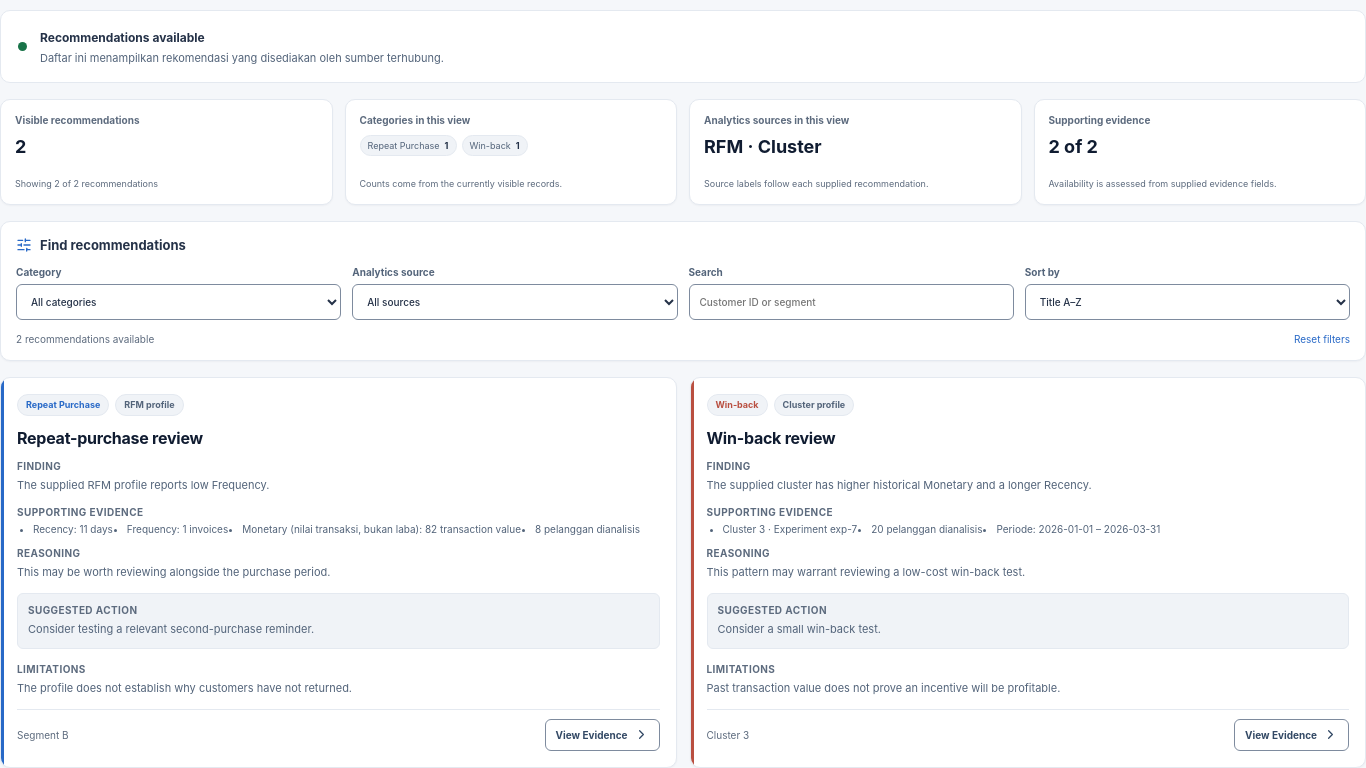
Test case: Action Center page › opens supplied evidence and contextual links, then closes the drawer with Escape
(page scrolled)
Expected: the heading "Win-back review" is shown, [706,428,835,448]
Click the button with aria-label "View Evidence for Win-back review" at coordinates (1292, 735), box [1234,719,1349,751]
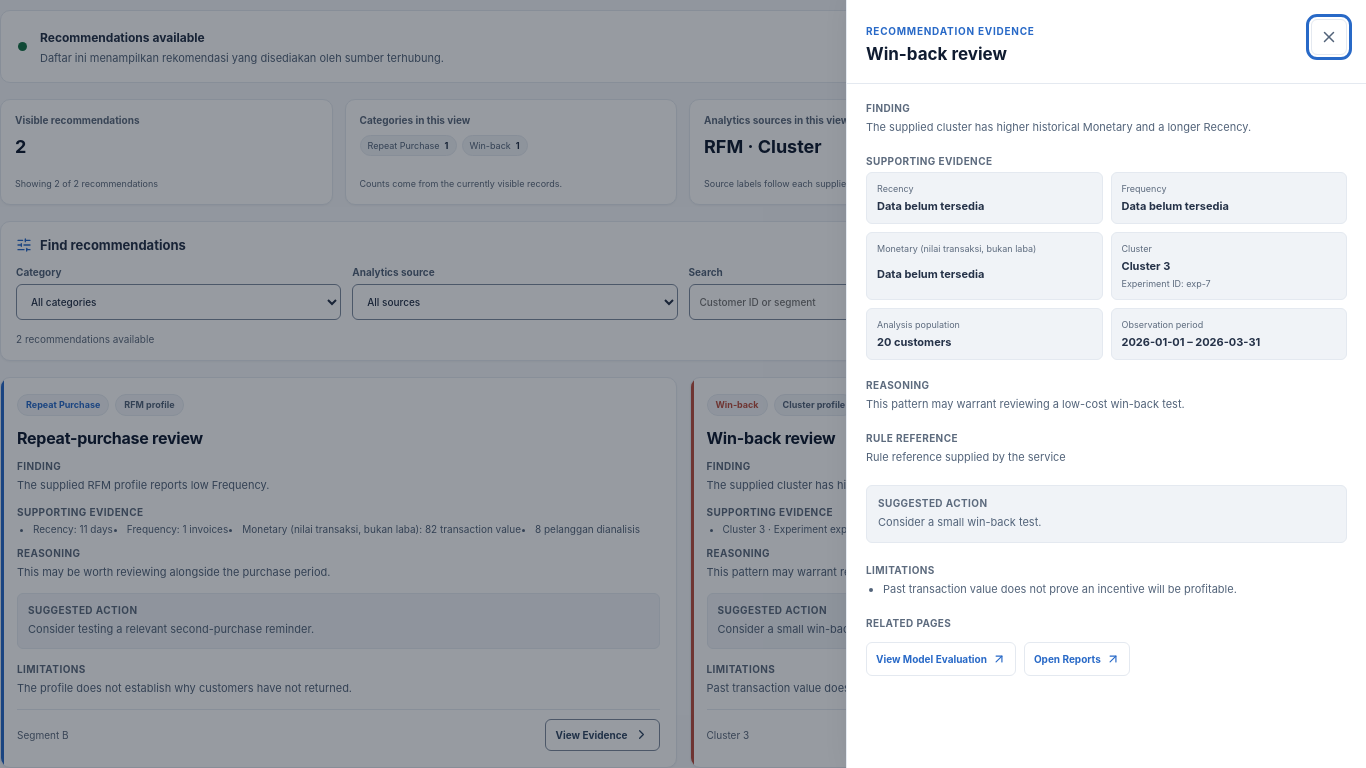
Now the text "The supplied cluster has higher historical Monetary and a longer Recency." is shown, box [866,120,1251,134]
Now the text "Rule reference supplied by the service" is shown, box [866,450,1066,464]
Press Escape
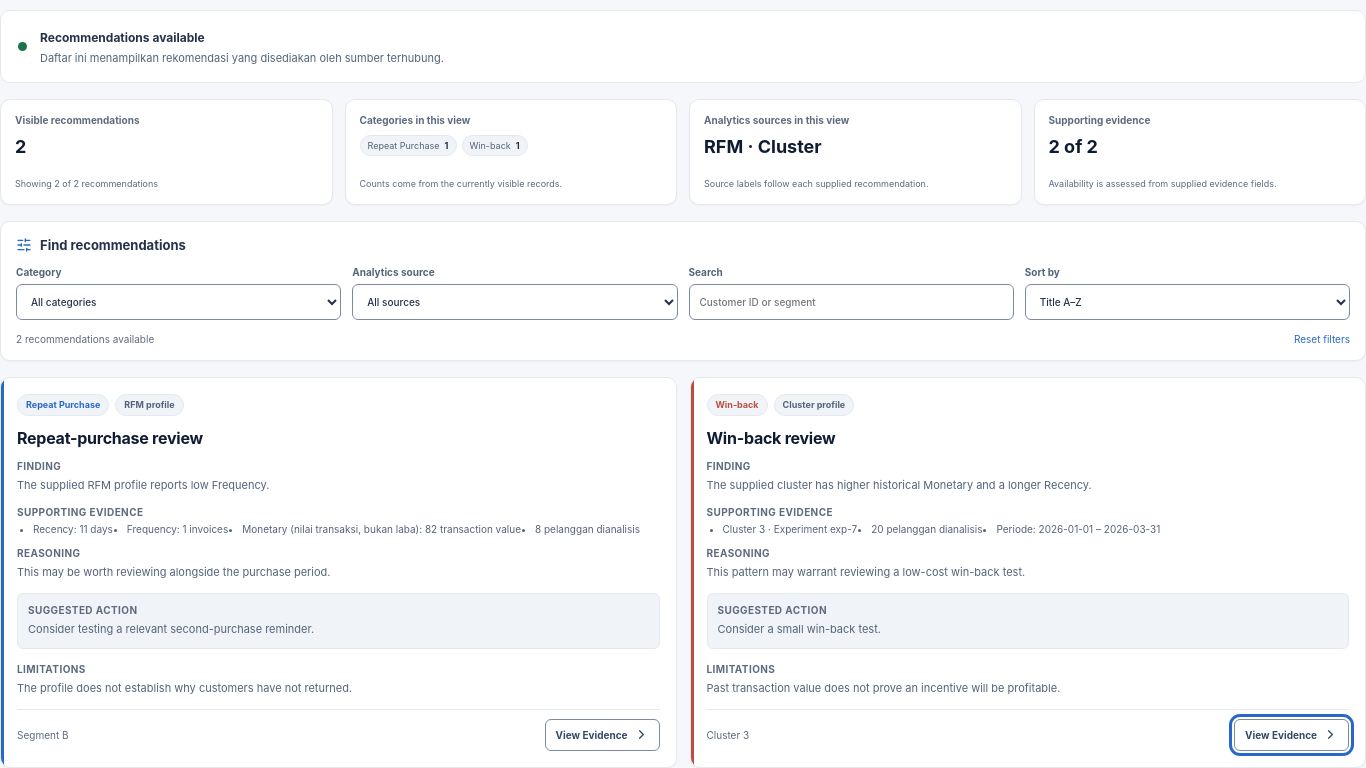
Now the dialog is gone
